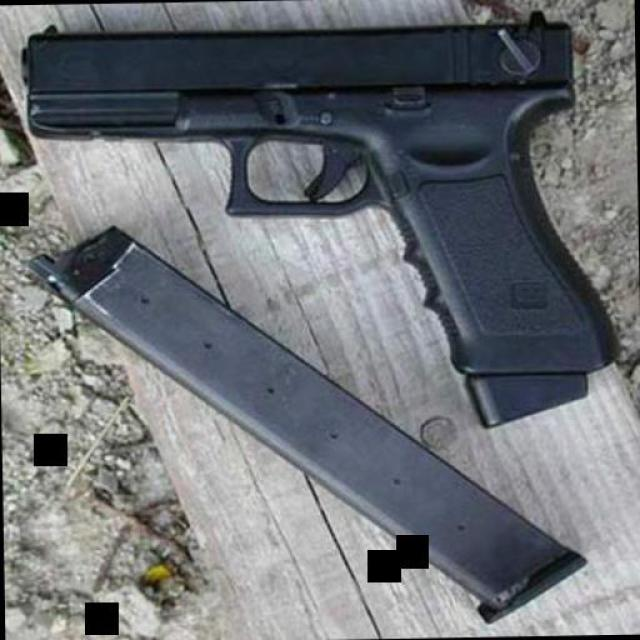gun: (19, 11, 614, 432)
